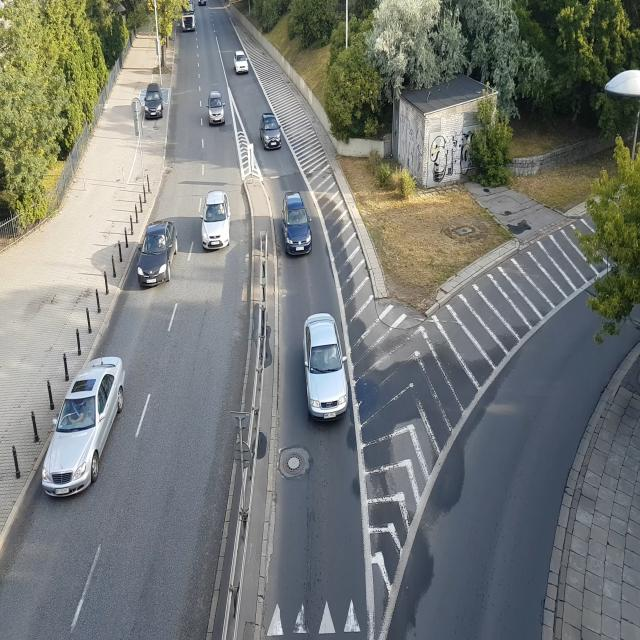car: (40, 352, 125, 498), (298, 310, 351, 426), (138, 220, 175, 288), (201, 191, 232, 250), (282, 195, 312, 255), (259, 114, 283, 150), (143, 86, 165, 119), (209, 90, 226, 125), (236, 51, 251, 75)
truck: (180, 0, 198, 36)
